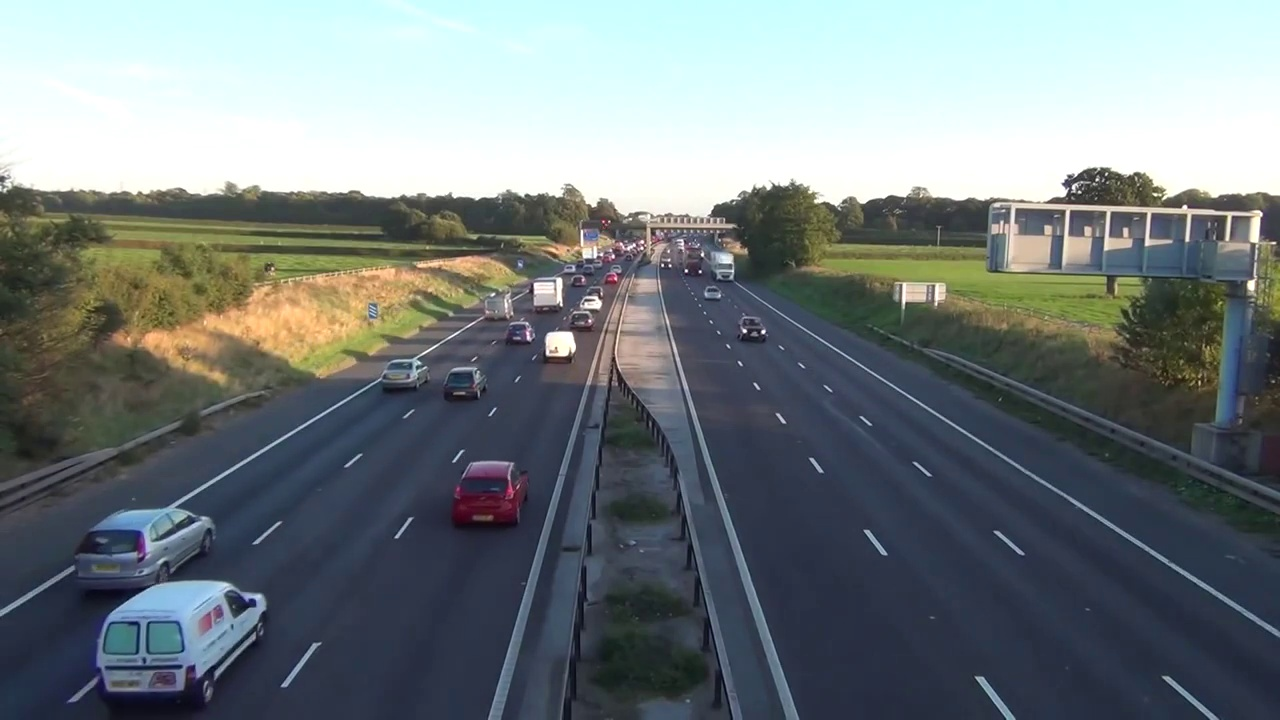bus: (75, 508, 215, 584), (451, 462, 530, 524), (440, 367, 487, 399), (381, 359, 428, 389), (737, 317, 767, 343), (503, 322, 534, 344), (569, 312, 595, 331), (580, 295, 602, 310), (703, 286, 722, 299)
car: (532, 278, 562, 312), (710, 251, 735, 281), (681, 247, 703, 276)
lorry: (97, 580, 267, 707), (544, 333, 576, 363), (482, 296, 515, 323)
